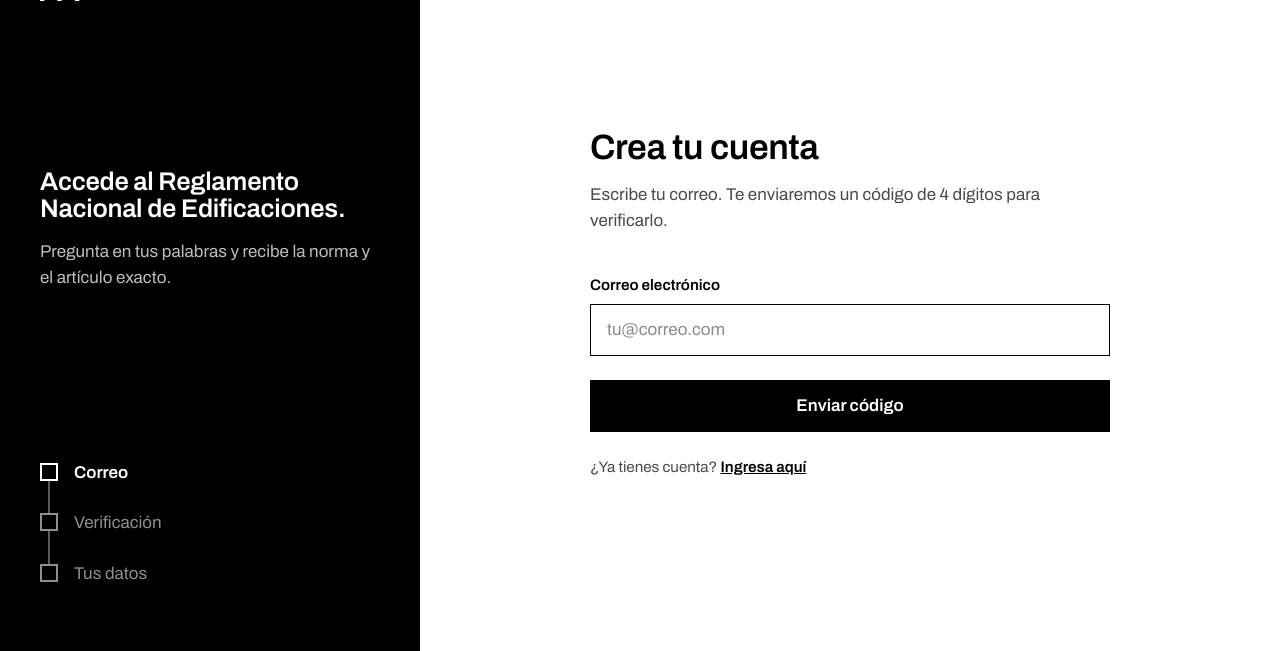
Test: registro › si el maestro falla, bloquea el envío y permite reintentar
In the field labelled "Correo electrónico": (850, 330) top-left (590, 304), bottom-right (1110, 356), type "ana@correo.com"
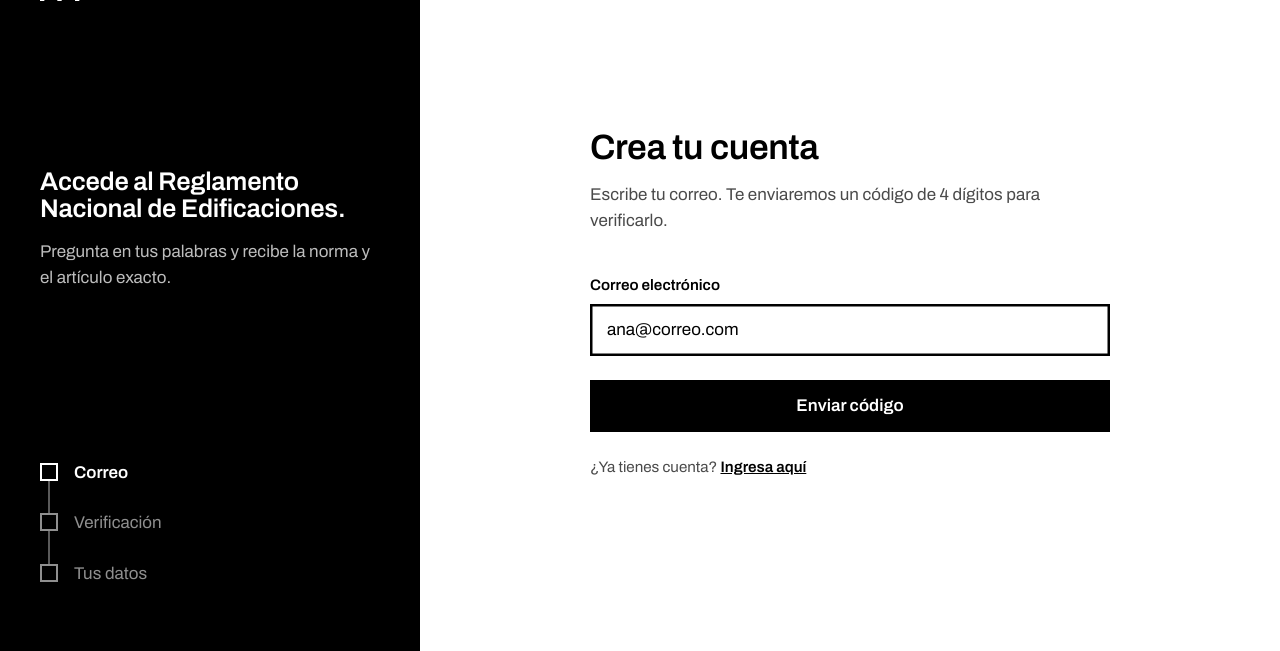
Click the button "Enviar código": (850, 406) top-left (590, 380), bottom-right (1110, 432)
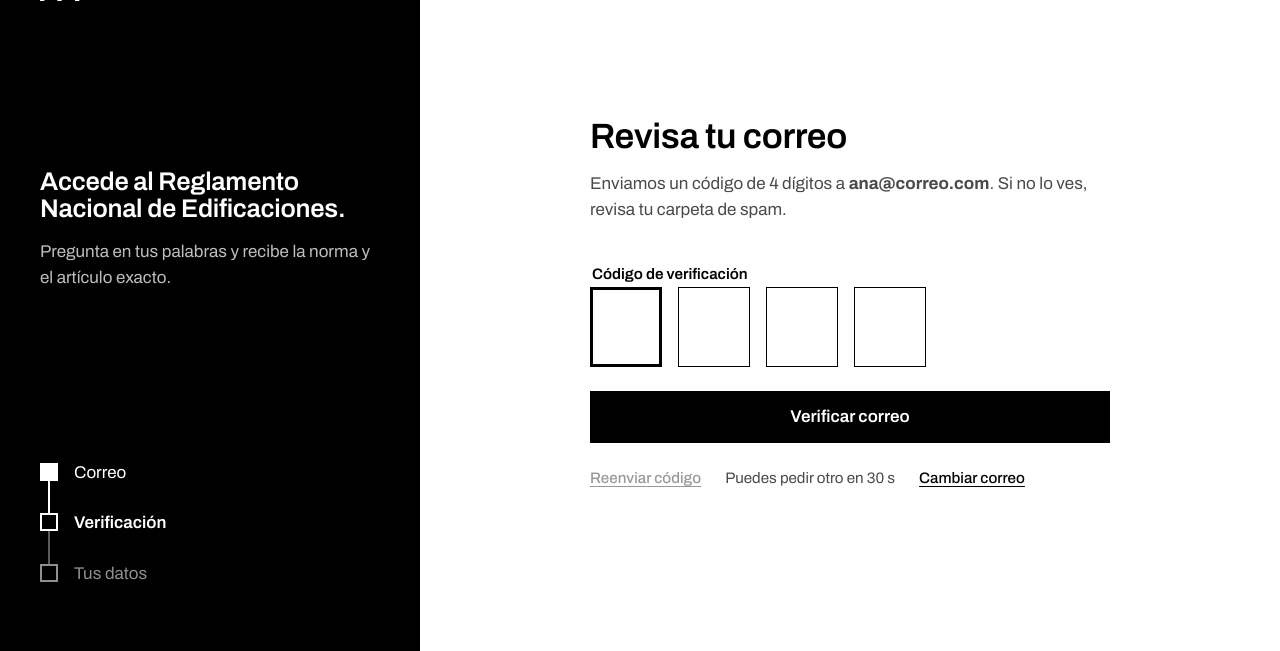
Now the heading "Revisa tu correo" is shown, box top-left (590, 117), bottom-right (847, 155)
Type keys "1234"
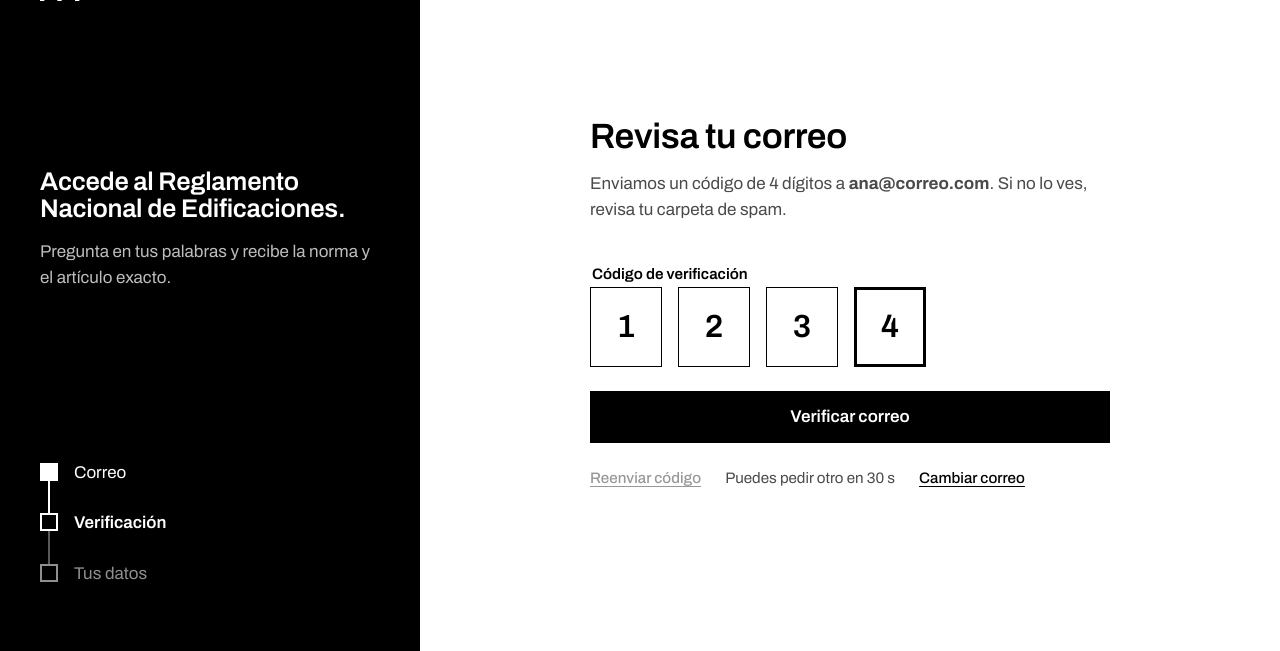
Click the button "Verificar correo": (850, 417) top-left (590, 391), bottom-right (1110, 443)
(page scrolled)
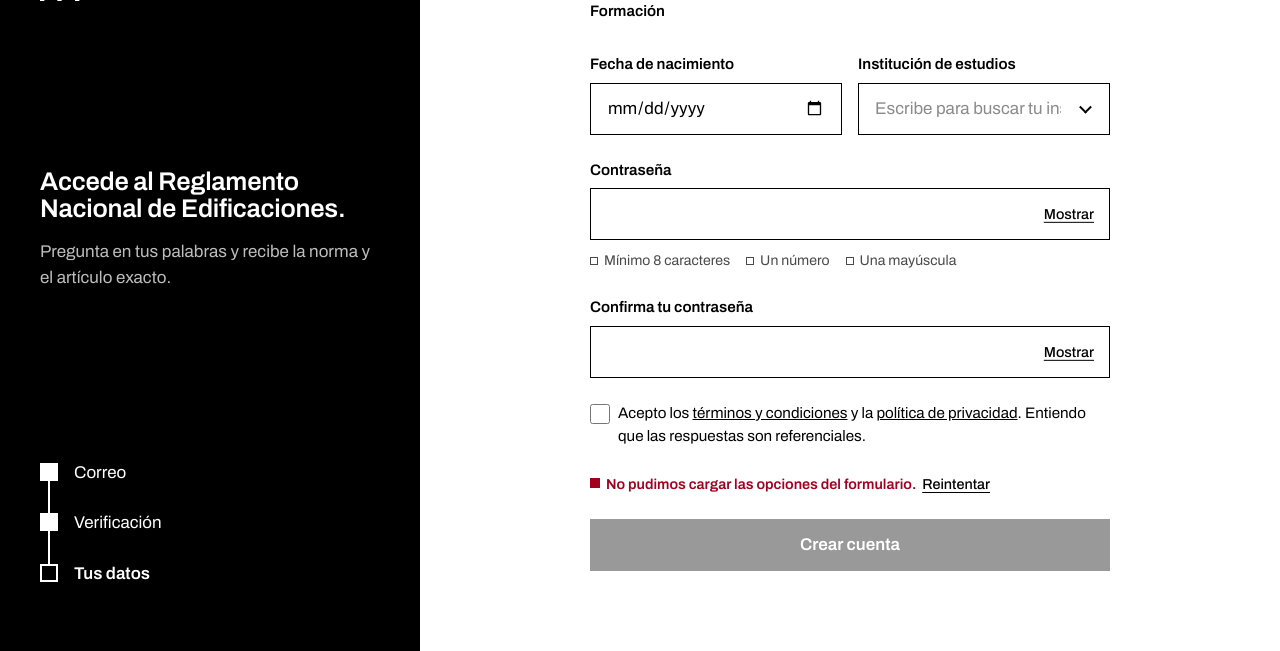
Now the text "No pudimos cargar las opciones del formulario. Reintentar" is shown, box top-left (606, 473), bottom-right (990, 495)
Now the button "Crear cuenta" is disabled, box top-left (590, 519), bottom-right (1110, 571)
Click the button "Reintentar": (956, 484) top-left (922, 473), bottom-right (990, 495)
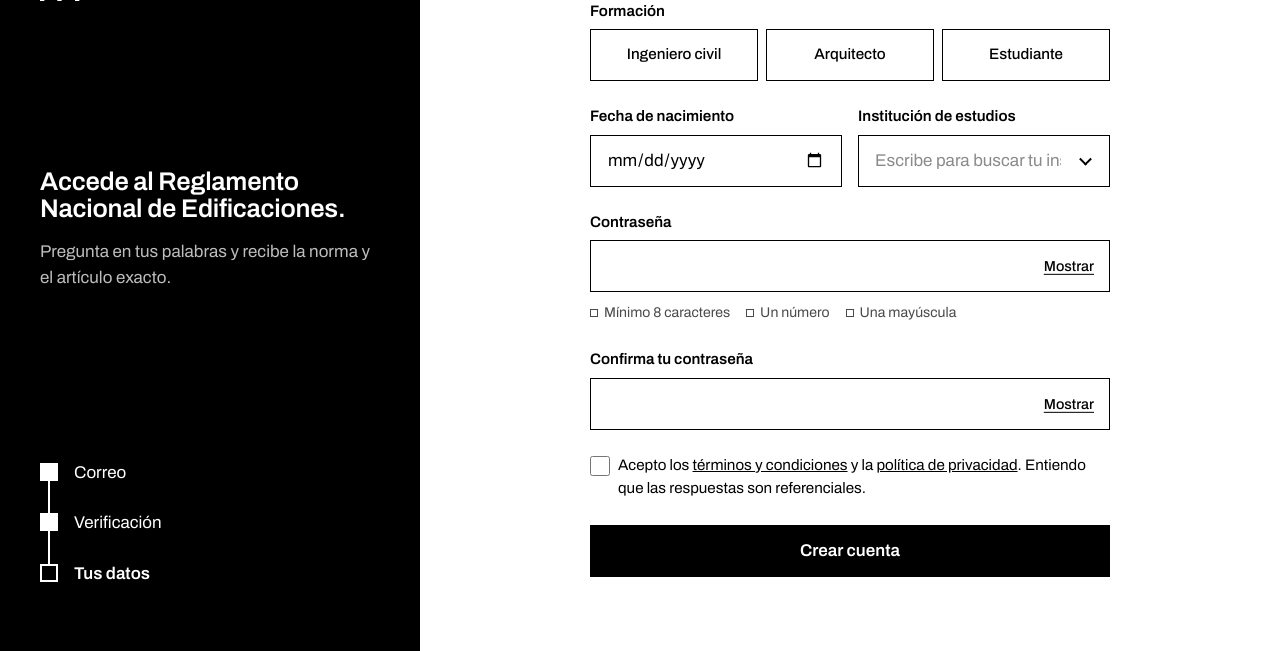
Now the button "Crear cuenta" is enabled, box top-left (590, 525), bottom-right (1110, 577)
